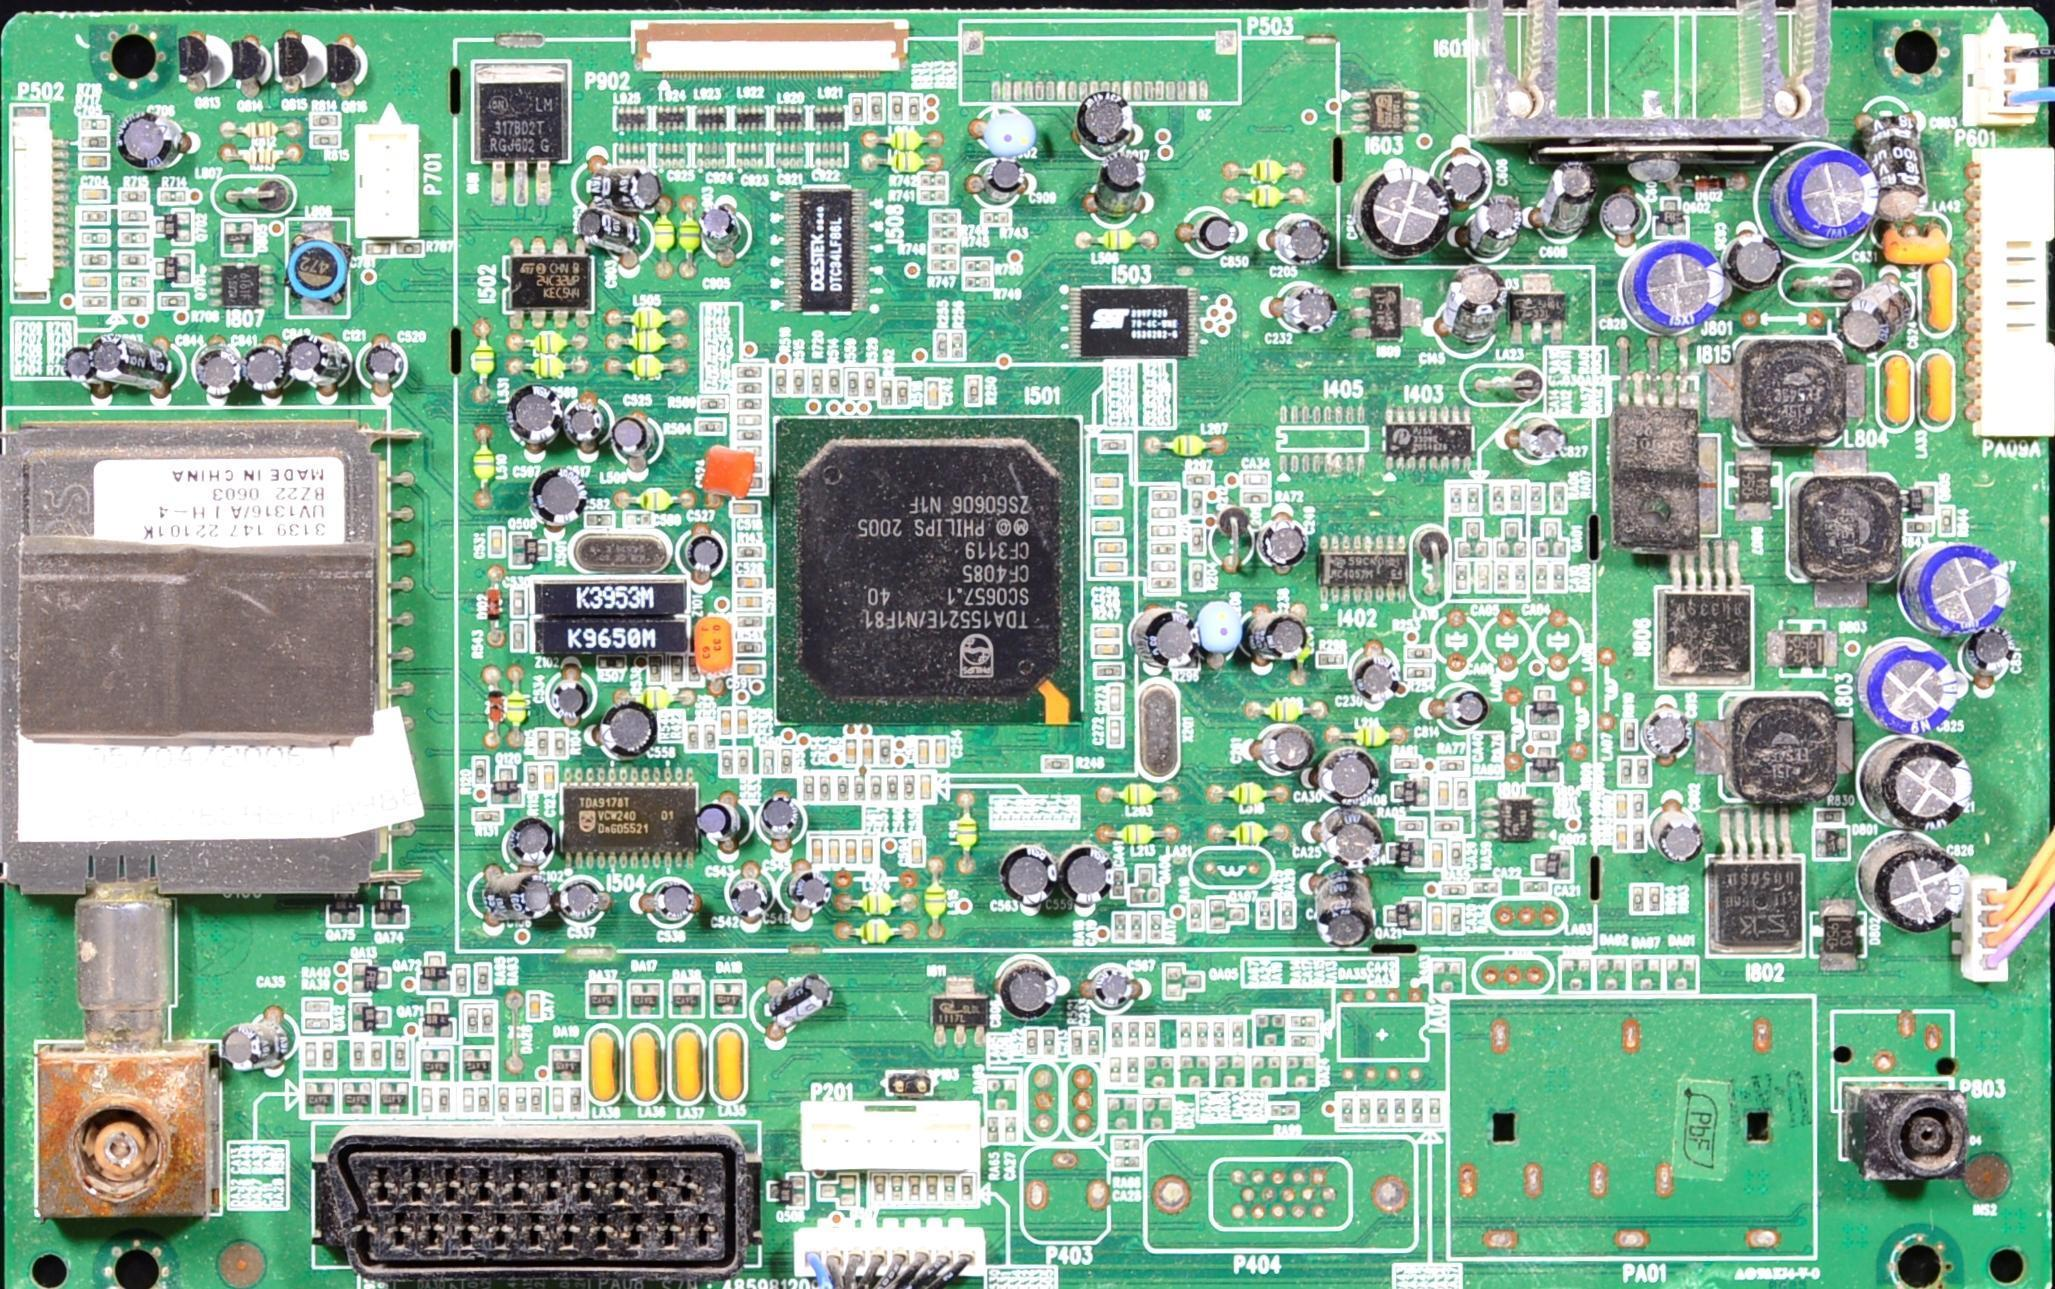Capacitor: (363, 241, 394, 255), (80, 155, 110, 169), (1098, 559, 1124, 574), (1095, 519, 1122, 533), (844, 838, 857, 868), (81, 275, 108, 290), (811, 838, 825, 864), (1616, 824, 1629, 853), (1091, 494, 1122, 507), (81, 188, 107, 202), (1093, 475, 1118, 489), (1109, 721, 1123, 747), (845, 741, 858, 766), (1098, 544, 1125, 556), (543, 765, 556, 793), (919, 772, 931, 801), (828, 839, 840, 867), (737, 414, 760, 427), (736, 577, 763, 589), (737, 709, 749, 735), (1616, 792, 1628, 818), (1093, 644, 1122, 655), (911, 837, 923, 863), (862, 841, 874, 866), (1431, 843, 1443, 868), (1109, 685, 1120, 713), (918, 738, 928, 766), (738, 596, 762, 607), (738, 664, 762, 675), (928, 379, 939, 406), (863, 739, 873, 766), (934, 739, 945, 766), (1093, 628, 1118, 639), (1438, 781, 1448, 806), (733, 503, 758, 514), (722, 711, 732, 735), (1431, 907, 1442, 931), (491, 530, 501, 555)
Connector: (1, 409, 382, 1039), (315, 1127, 756, 1284), (1972, 147, 2055, 444), (634, 29, 913, 70), (12, 103, 62, 302), (355, 123, 424, 240)
IC: (798, 437, 1066, 697), (1699, 804, 1809, 954), (1654, 536, 1757, 692), (469, 59, 574, 206), (559, 774, 702, 867), (784, 189, 869, 316), (1068, 287, 1200, 360), (502, 239, 595, 329), (1318, 534, 1410, 603), (1386, 409, 1477, 468), (1349, 89, 1422, 135), (205, 269, 277, 310)
Resistor: (1472, 559, 1489, 598), (1510, 557, 1528, 593), (1285, 1032, 1323, 1048), (1428, 1095, 1446, 1129), (1288, 1012, 1318, 1031), (1353, 1093, 1372, 1124), (1452, 564, 1471, 595), (1041, 755, 1072, 773), (550, 1084, 567, 1116), (905, 1172, 920, 1207), (923, 1175, 940, 1210), (1194, 1016, 1210, 1050), (392, 1037, 409, 1071), (959, 1173, 975, 1208), (1106, 1053, 1122, 1085), (1548, 560, 1565, 593), (301, 997, 331, 1015), (1106, 1017, 1123, 1049), (870, 1174, 886, 1206), (1492, 562, 1508, 592), (1509, 484, 1526, 513), (460, 1002, 477, 1032), (965, 375, 981, 406), (1463, 482, 1479, 513), (1552, 486, 1568, 515), (302, 1017, 333, 1032), (1229, 1017, 1245, 1049), (496, 1085, 511, 1116), (513, 1085, 527, 1117), (1392, 1094, 1406, 1125), (1002, 1113, 1017, 1144), (458, 1084, 474, 1113), (1336, 1094, 1352, 1122), (861, 369, 877, 397), (351, 1037, 364, 1071), (1126, 1051, 1139, 1085), (1446, 481, 1460, 515), (928, 209, 958, 224), (698, 397, 727, 411), (888, 1171, 902, 1205), (312, 131, 339, 147), (917, 173, 945, 188), (930, 259, 956, 275), (950, 329, 966, 356), (1190, 490, 1205, 517), (1190, 563, 1205, 590), (301, 1040, 317, 1067), (435, 1085, 450, 1114), (477, 1086, 491, 1114), (1374, 1093, 1389, 1121), (310, 113, 338, 127), (395, 241, 423, 255), (119, 253, 147, 267), (895, 379, 910, 407), (320, 1039, 334, 1070), (117, 233, 149, 246), (1529, 483, 1542, 514), (525, 764, 539, 794), (1815, 810, 1845, 822), (1112, 1155, 1137, 1172), (735, 749, 751, 774), (475, 809, 500, 825), (1647, 887, 1663, 912), (1178, 1018, 1191, 1048), (1042, 1028, 1057, 1054), (907, 93, 921, 123), (159, 190, 188, 203), (931, 225, 957, 241), (535, 729, 550, 756), (476, 965, 492, 992), (481, 1004, 493, 1036), (943, 1176, 955, 1209), (891, 94, 904, 122), (980, 212, 1008, 226), (1492, 483, 1505, 511), (1140, 1018, 1155, 1044), (1407, 666, 1433, 680), (780, 747, 795, 772), (719, 749, 733, 774), (1632, 886, 1646, 912), (420, 1085, 432, 1116), (1533, 561, 1544, 593), (370, 1040, 383, 1066), (1110, 1137, 1137, 1151), (920, 189, 947, 202), (964, 259, 991, 272), (737, 367, 763, 380), (697, 420, 723, 433), (1099, 438, 1125, 451), (1151, 542, 1177, 555), (1126, 1017, 1137, 1047), (962, 276, 992, 288), (935, 333, 950, 356), (827, 365, 839, 395), (848, 369, 860, 398), (818, 777, 833, 801), (870, 96, 883, 122), (986, 1115, 999, 1141), (80, 117, 105, 130), (122, 190, 147, 203), (82, 254, 107, 267), (791, 368, 805, 394), (737, 383, 762, 397), (737, 428, 762, 441), (737, 617, 762, 629), (853, 775, 865, 801), (885, 775, 899, 801), (80, 137, 108, 148), (881, 379, 892, 407), (1191, 527, 1203, 556), (737, 642, 764, 653), (1094, 664, 1122, 676), (456, 966, 468, 994), (1212, 1019, 1224, 1045), (565, 1086, 578, 1112), (121, 209, 147, 222), (931, 243, 957, 255), (81, 296, 108, 308), (811, 368, 823, 395), (1152, 488, 1176, 502), (1243, 491, 1267, 505), (704, 725, 715, 751), (474, 759, 486, 785), (836, 776, 850, 801), (776, 366, 787, 395), (853, 95, 864, 121), (737, 398, 762, 410), (1941, 508, 1953, 533), (1905, 521, 1931, 533), (1406, 648, 1431, 659), (687, 724, 699, 750), (870, 775, 882, 800), (802, 775, 814, 801), (1087, 1029, 1097, 1057), (1410, 1094, 1421, 1123), (555, 729, 566, 758), (1151, 507, 1175, 519), (1151, 526, 1175, 538), (880, 739, 893, 764), (122, 294, 149, 305), (1185, 474, 1212, 484), (903, 776, 914, 799), (160, 296, 185, 306), (84, 211, 108, 222), (122, 276, 145, 287), (1150, 578, 1174, 588), (763, 750, 774, 774), (530, 1085, 539, 1113), (1153, 562, 1176, 571), (739, 547, 759, 558), (1027, 1030, 1036, 1056), (1072, 1030, 1081, 1054), (83, 233, 107, 242)
Transistor: (1346, 283, 1422, 344), (1508, 276, 1567, 349), (416, 950, 453, 995), (418, 1000, 457, 1041), (350, 1000, 392, 1036), (153, 207, 195, 244), (325, 885, 362, 925), (767, 1174, 809, 1211), (373, 885, 409, 926), (350, 957, 389, 994), (710, 982, 746, 1018), (416, 1045, 453, 1081), (1653, 200, 1689, 236), (156, 250, 192, 285), (587, 982, 621, 1016), (460, 1045, 493, 1081), (629, 981, 662, 1016), (671, 982, 703, 1017), (1901, 485, 1935, 514), (553, 1045, 581, 1078)
